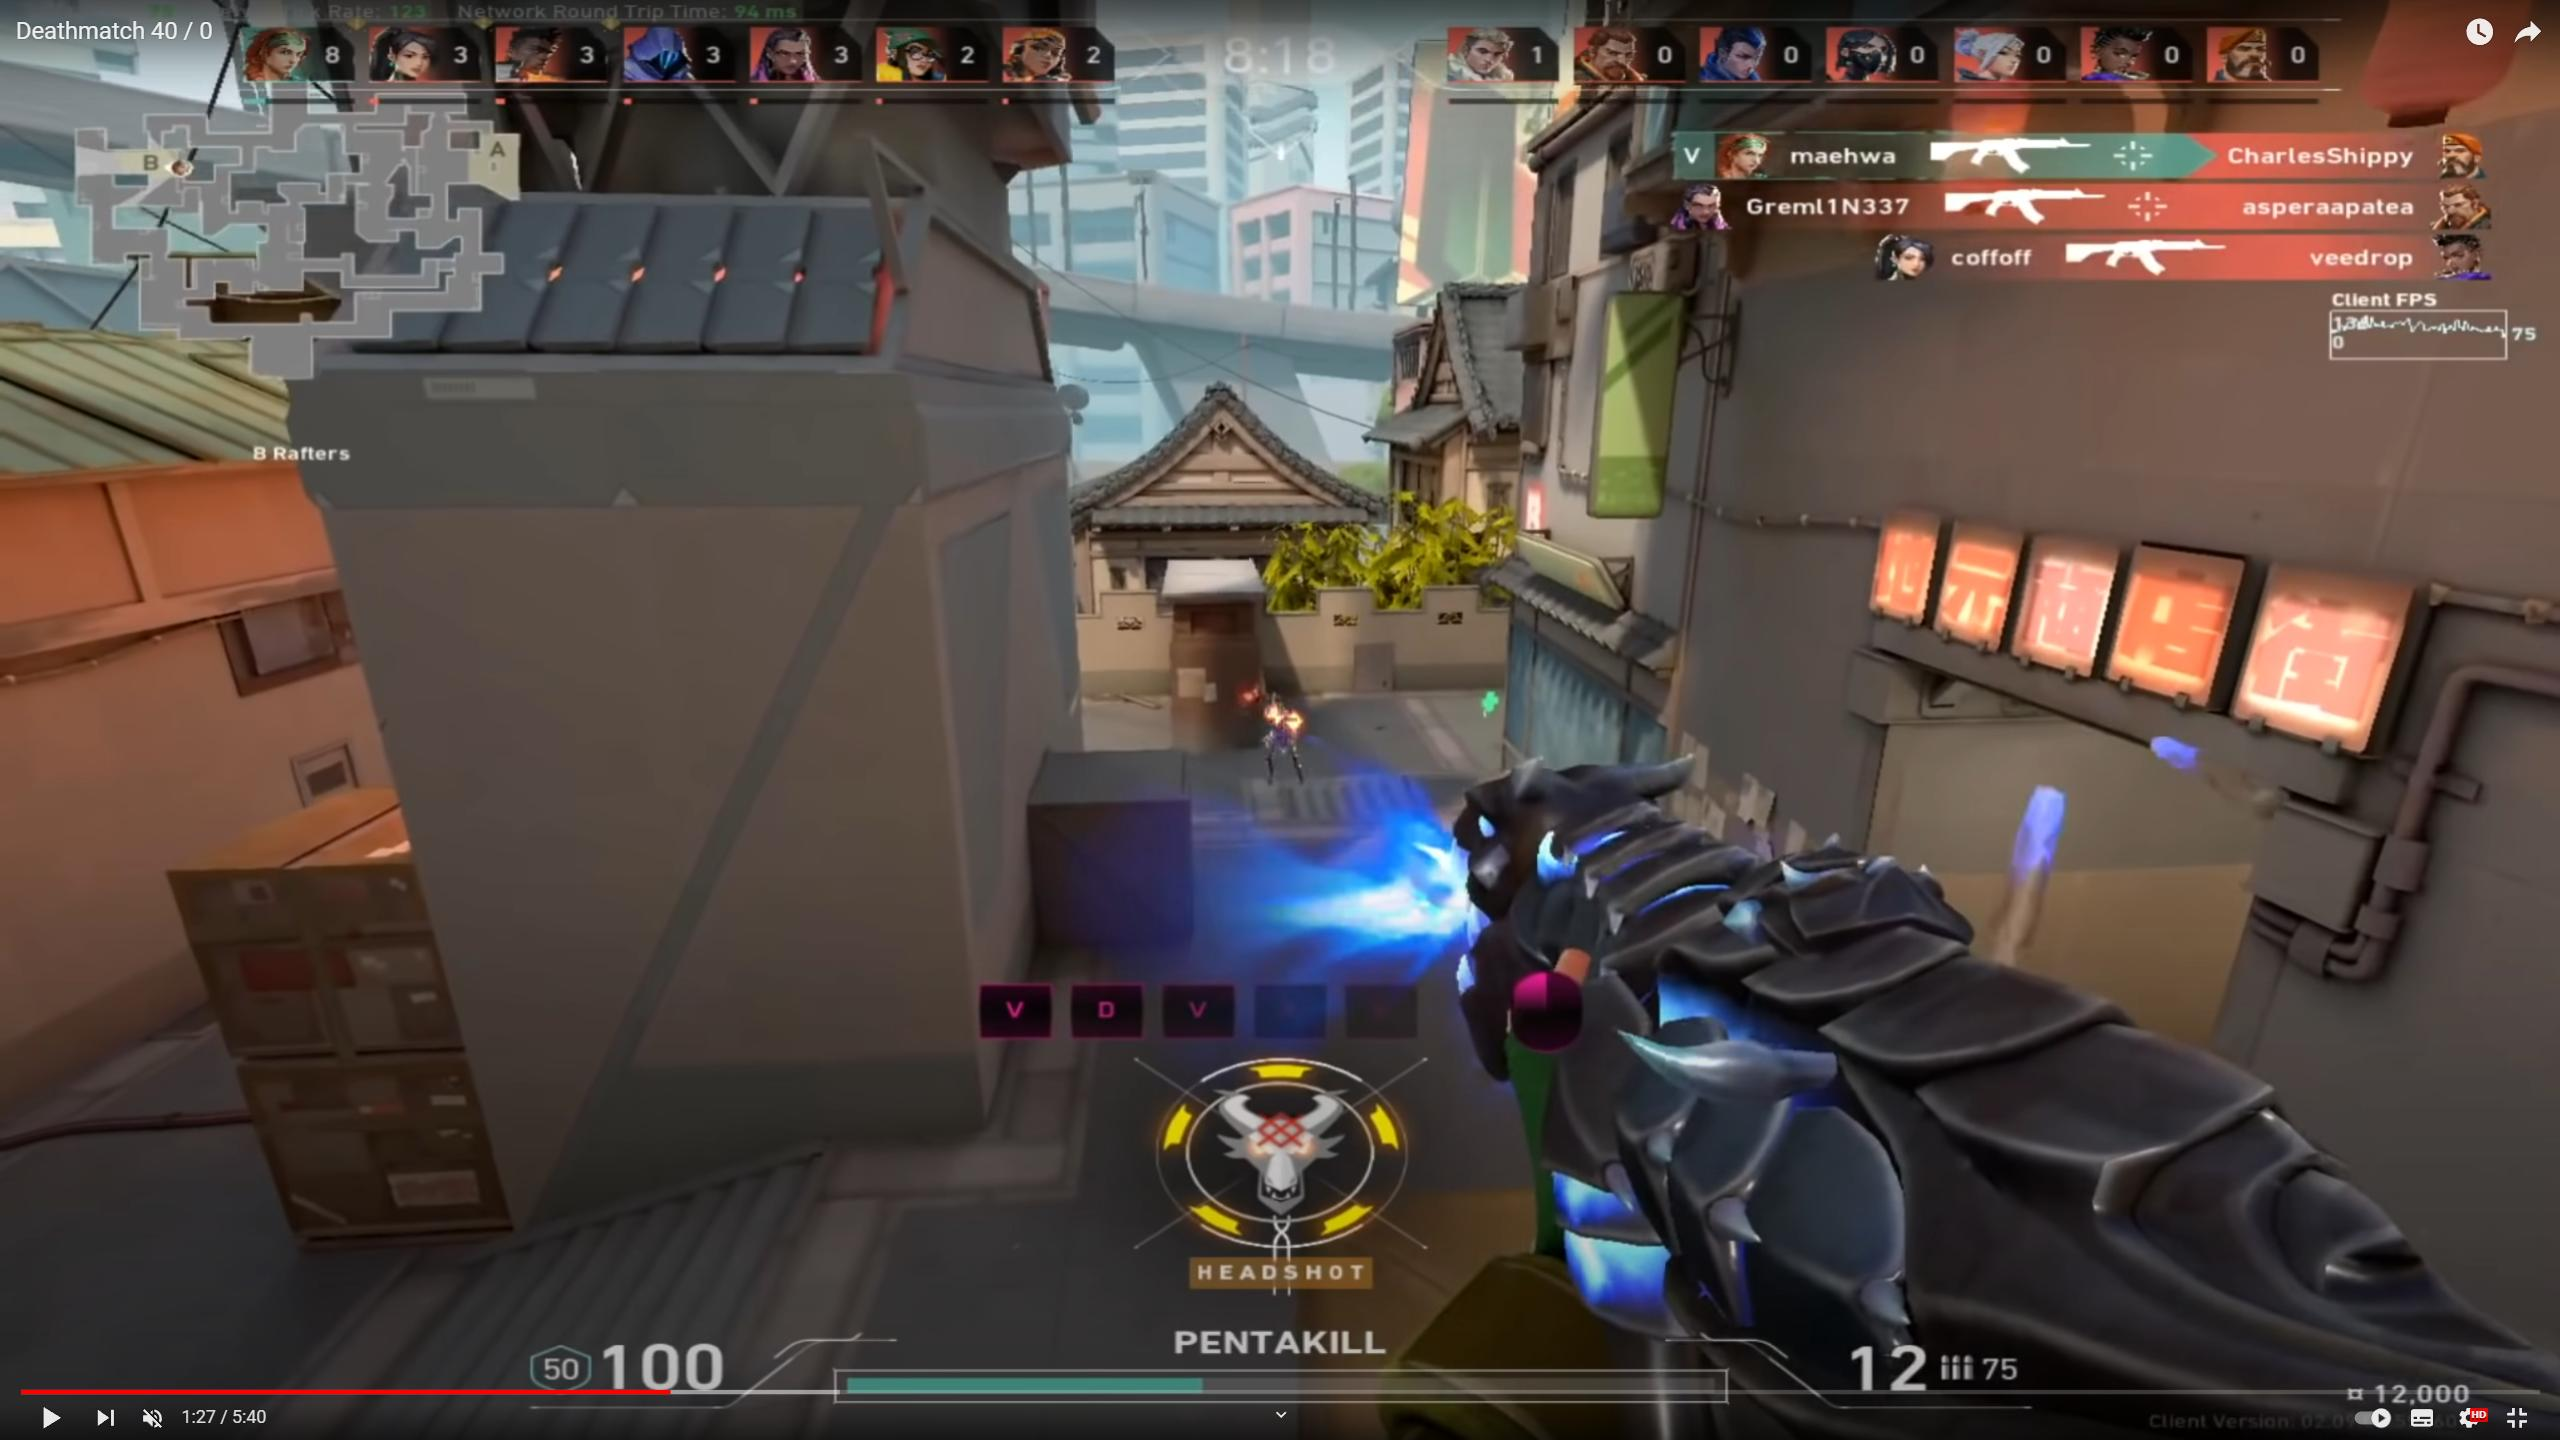enemyHead: (1266, 696, 1292, 726)
